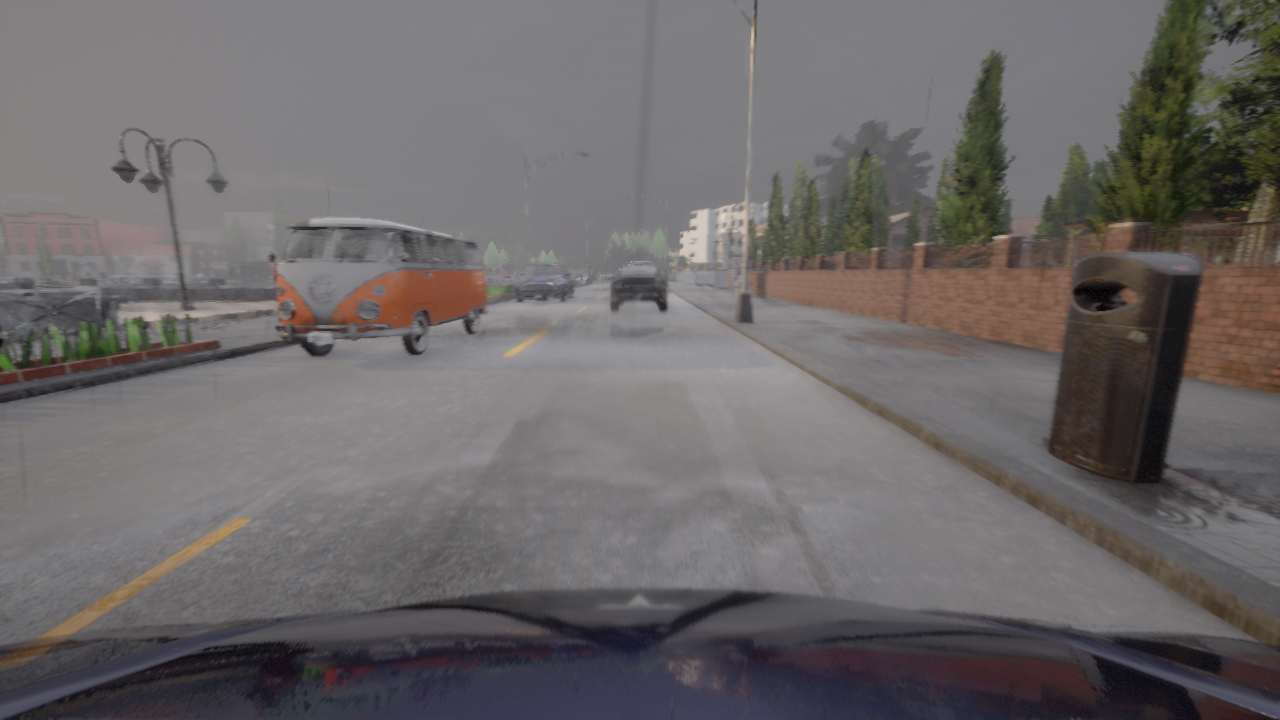cyclist: (0, 588, 1279, 719), (268, 216, 487, 355), (609, 264, 668, 310), (515, 263, 573, 301), (629, 262, 652, 265)
pedestrian: (729, 258, 741, 296), (735, 274, 741, 301)
